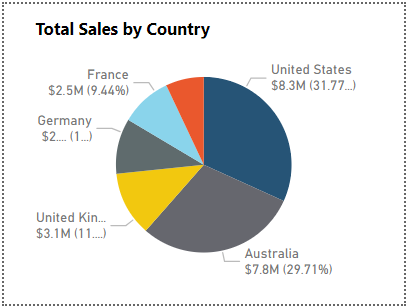

What the dashboard file says about the page in this screenshot:
{"tool":"powerbi","page":{"name":"Sales Region","canvas":[320,240],"ordinal":3},"visuals":[{"type":"pieChart","title":"Total Sales by Country","fields":{"Category":["Sales Territory.Sales Territory Country"],"Y":["Sales.Total Sales"]},"box":[20,10,280,220],"z":0}]}

Visuals, with their boxes in screenshot pixels (x1, y1, x2, y2), scaled from the page's 320x240 canvas onto the 410x307 screenshot:
"Total Sales by Country" pieChart: [26, 13, 384, 294]
